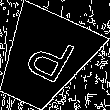P_SW: (13, 29, 75, 91)
